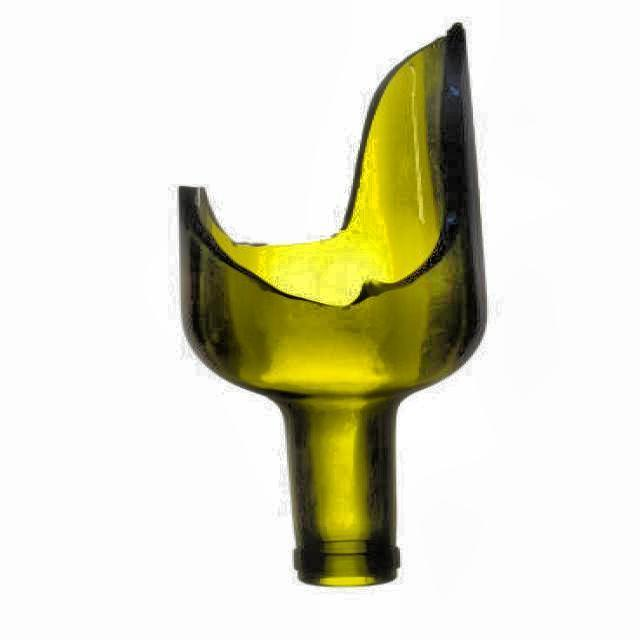glass: (177, 24, 489, 591)
